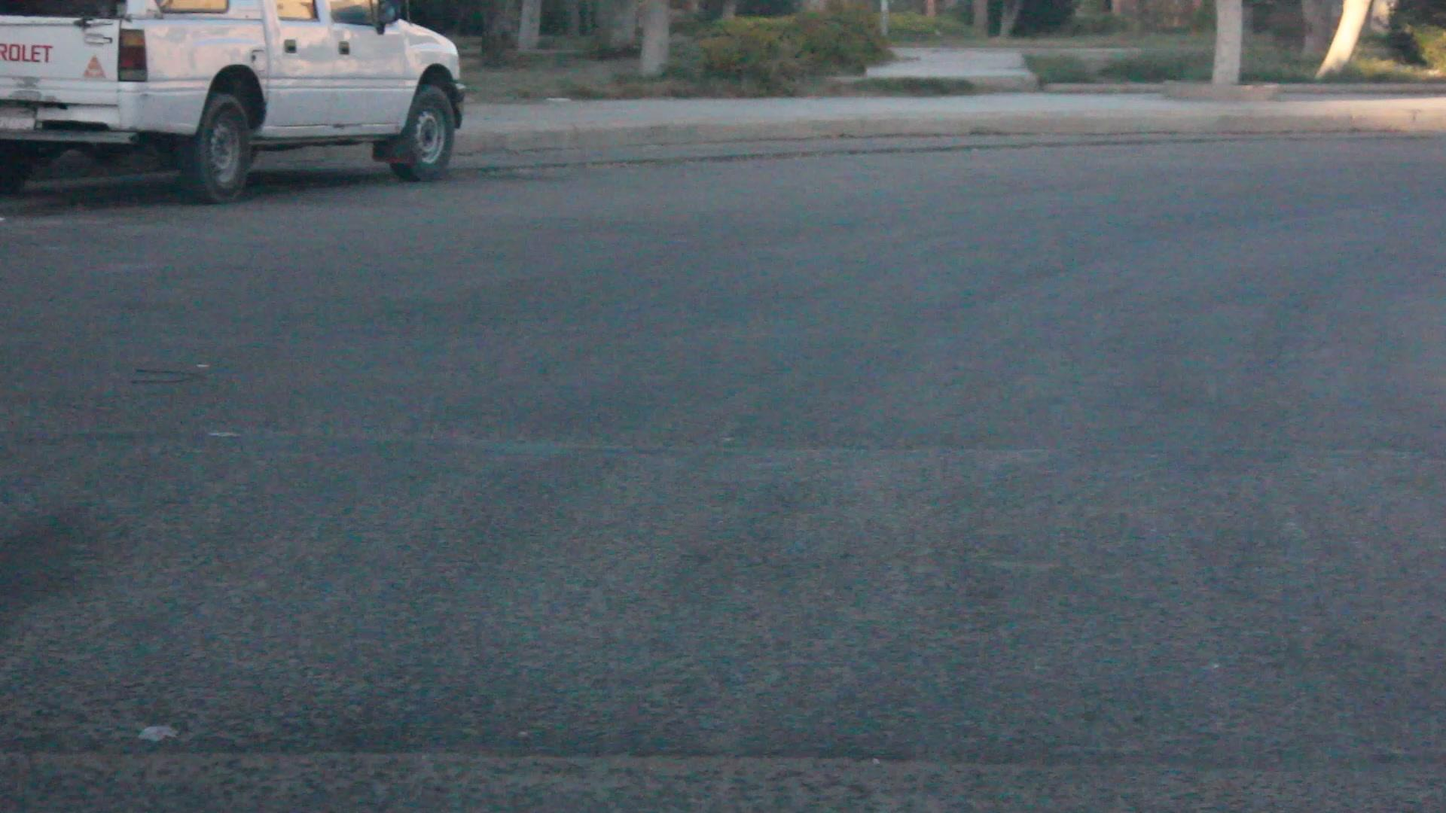Bump: (24, 403, 1446, 813)
